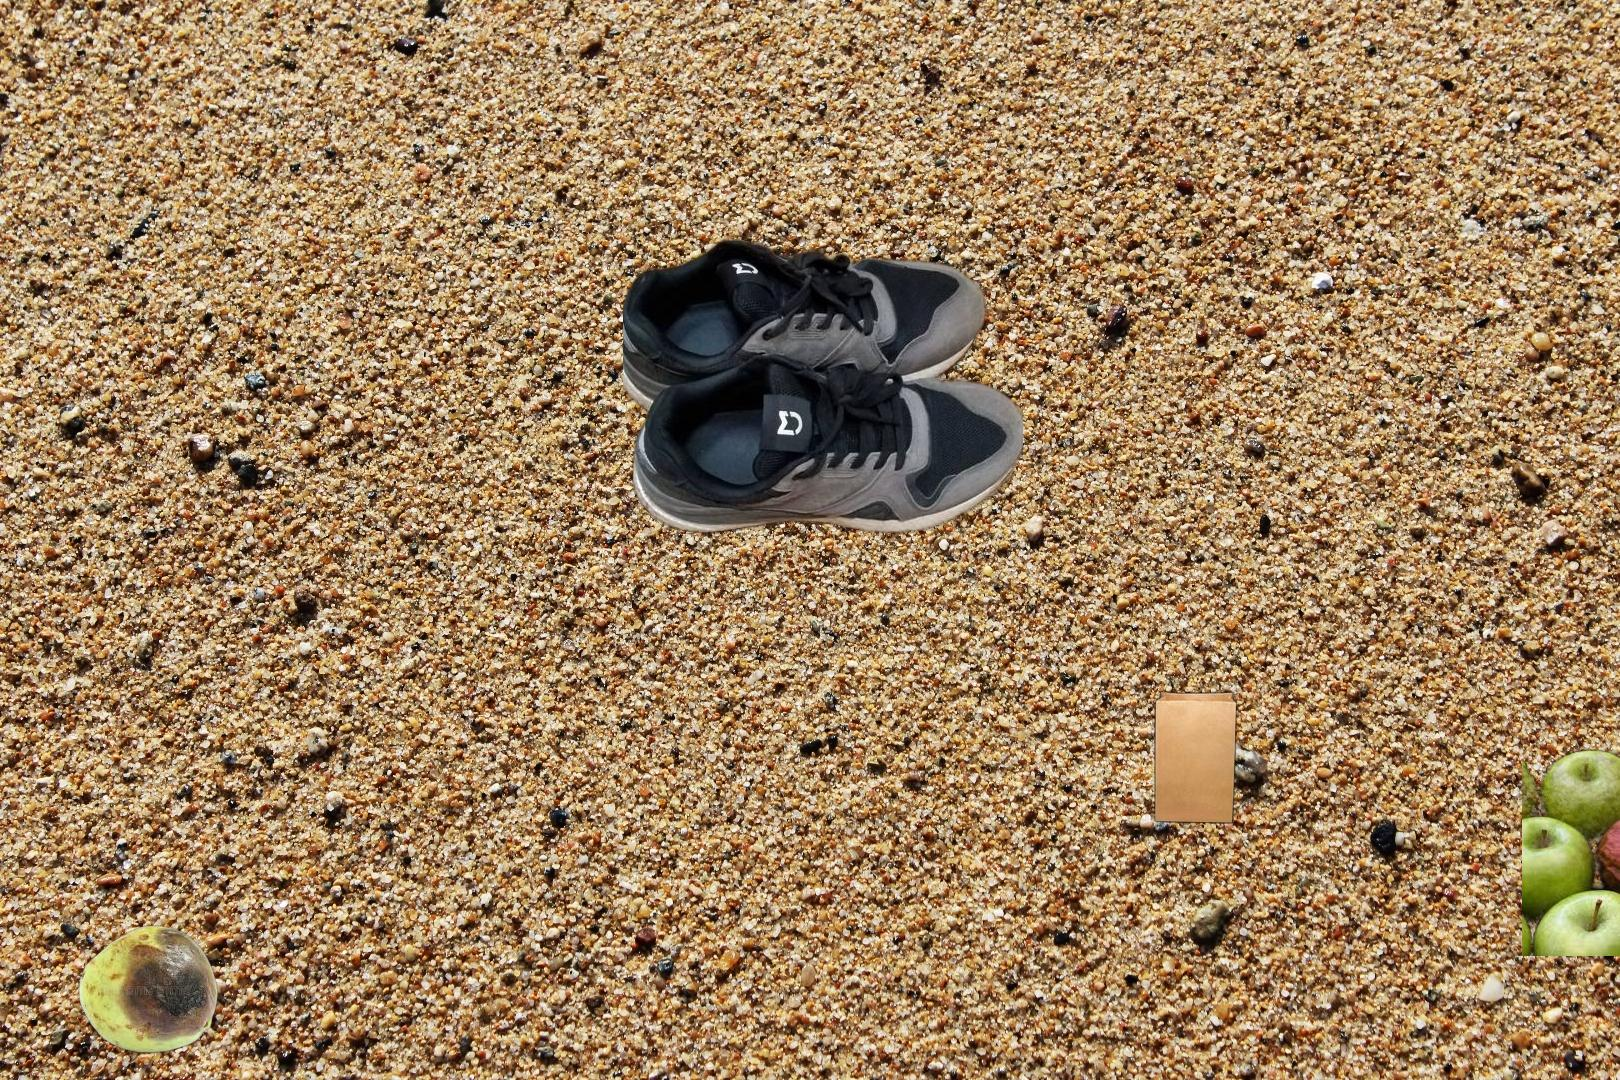biological: (1522, 749, 1620, 956), (76, 923, 221, 1056)
paper-bag: (1056, 646, 1356, 944)
shoes: (623, 233, 1023, 540)
